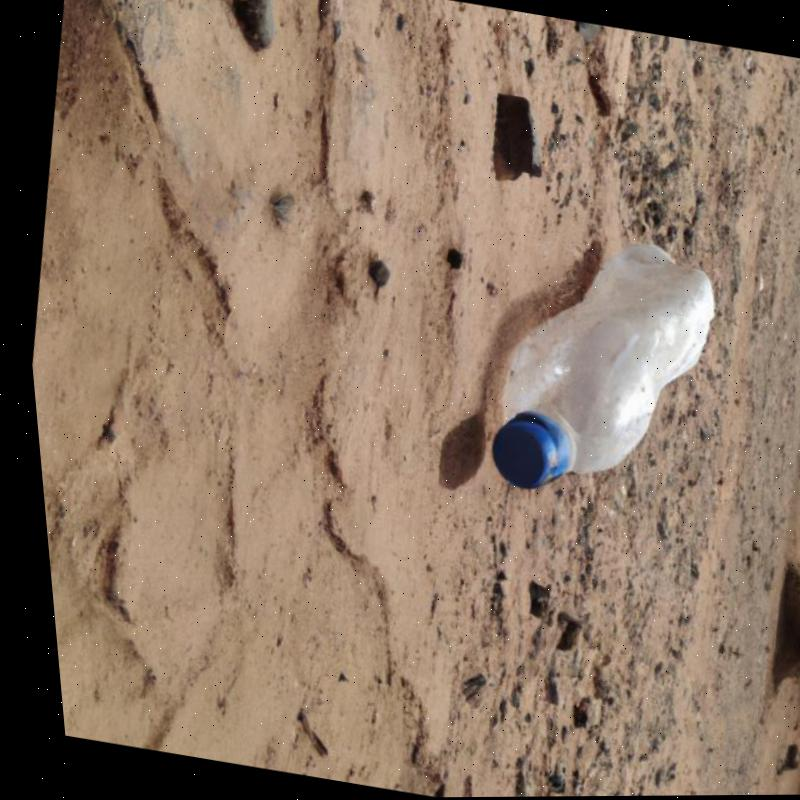botella: (461, 218, 736, 519)
